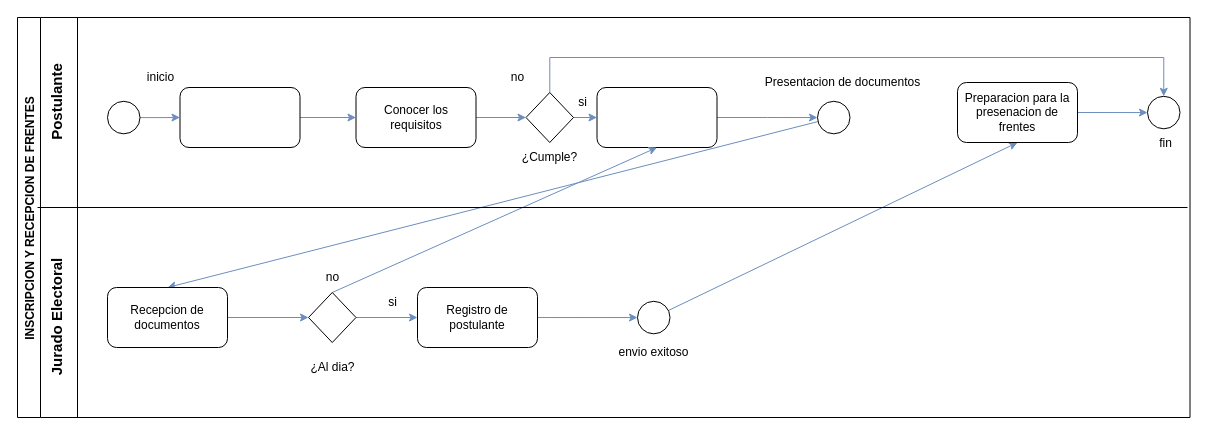
Image size: 1208x436. Some labels were removed from this diagram. Here are the shapes that lost their labels. From the top down, the centre of each, then its label:
[239,117]: Averiguar fecha de convocatoria
[656,117]: Prepara los documentos solicitados
